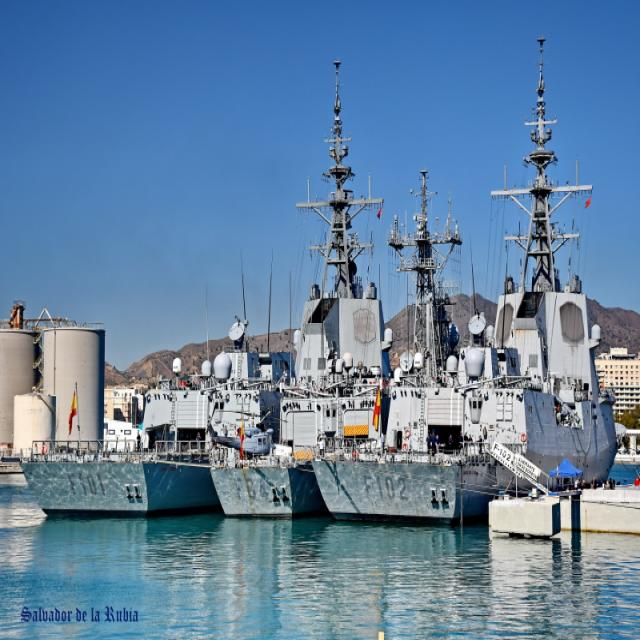Fragata: (305, 24, 617, 520), (192, 45, 355, 515), (17, 275, 218, 523)
